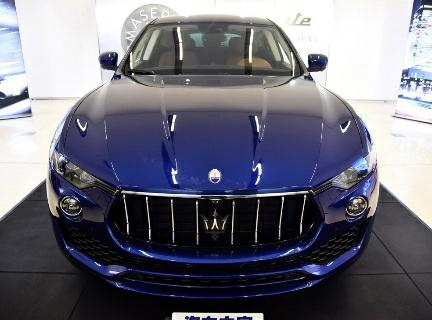玛莎拉蒂-Levante: (38, 13, 386, 306)
